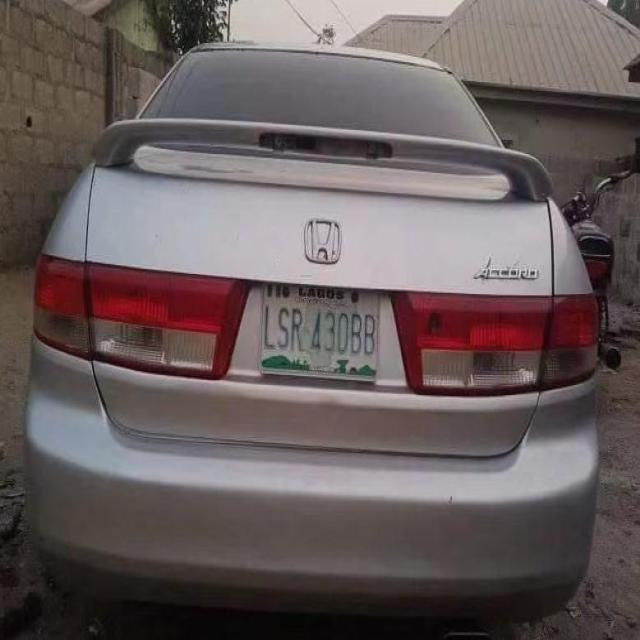Nigerian License Plate - vdataset benjamin-daria: (258, 284, 384, 388)
